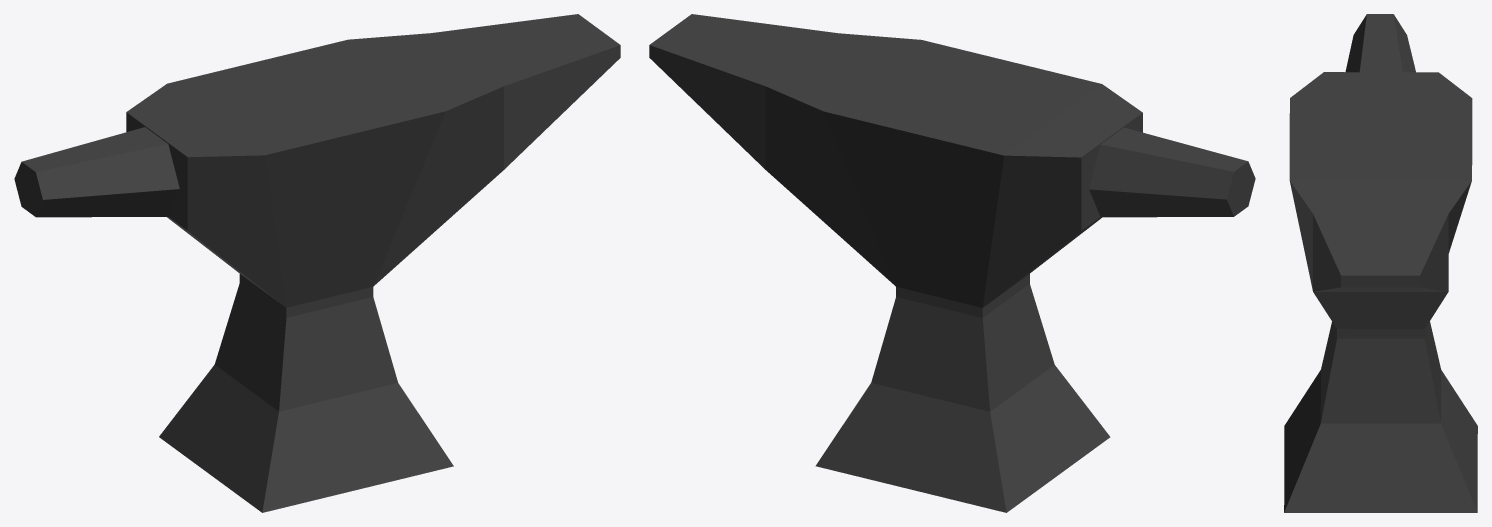
File: Anvil.fbx
3 views of the same model, side by side, from view 1: azimuth 30°, elevation 25°; view 2: azimuth 150°, elevation 25°; view 3: azimuth 270°, elevation 25° (orthographic). The views are drawn at different scales.
Visible parts, largest first — view 1: Anvil; view 2: Anvil; view 3: Anvil.
Part boxes in pixels (x1=…): Anvil: x1=14, y1=14, x2=620, y2=512; Anvil: x1=649, y1=14, x2=1255, y2=512; Anvil: x1=1284, y1=14, x2=1477, y2=512.
Size of the model in its own units: 134 by 79.69 by 42.39.
Materials: 1 (1 with a texture image).
